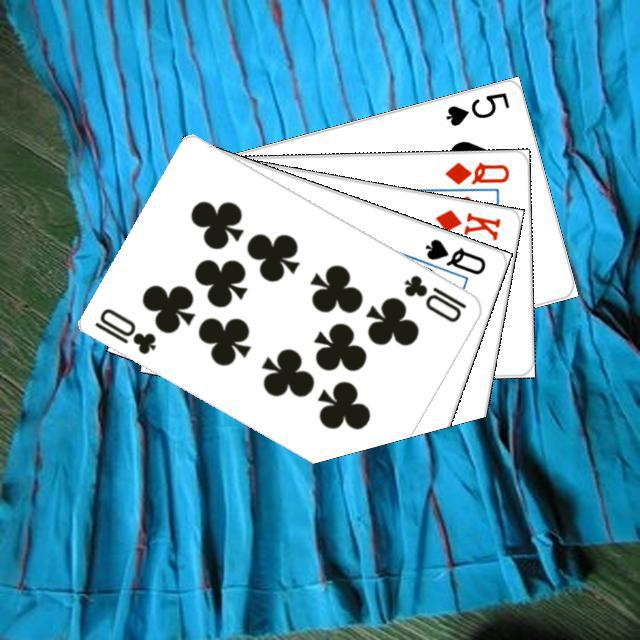10c: (399, 270, 468, 324), (89, 303, 158, 356)
5s: (440, 87, 512, 128)
Kd: (430, 204, 502, 243)
Qd: (440, 157, 511, 187)
Qs: (420, 233, 488, 277)
